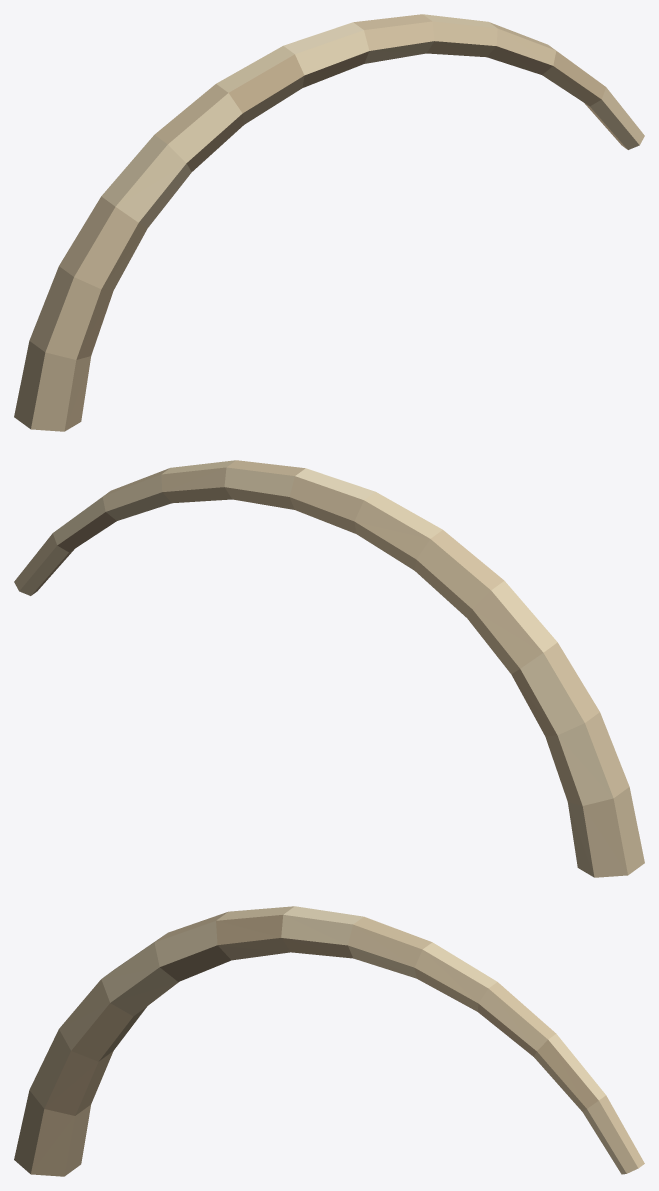
The model's file is SM_BONE_RIB_01.fbx.
The picture shows the model from 3 angles, top to bottom: view 1: azimuth 30°, elevation 25°; view 2: azimuth 150°, elevation 25°; view 3: azimuth 330°, elevation 25°; orthographic projection.
Parts seen in each view (by area): view 1: BONE_RIB_01; view 2: BONE_RIB_01; view 3: BONE_RIB_01.
Boxes of the visible parts, box(x1,y1,x2,y2) form: BONE_RIB_01: box(14, 14, 644, 431); BONE_RIB_01: box(14, 460, 644, 877); BONE_RIB_01: box(14, 906, 644, 1176).
Bounding box in the file's own units: 2.76 × 0.26 × 1.36.
